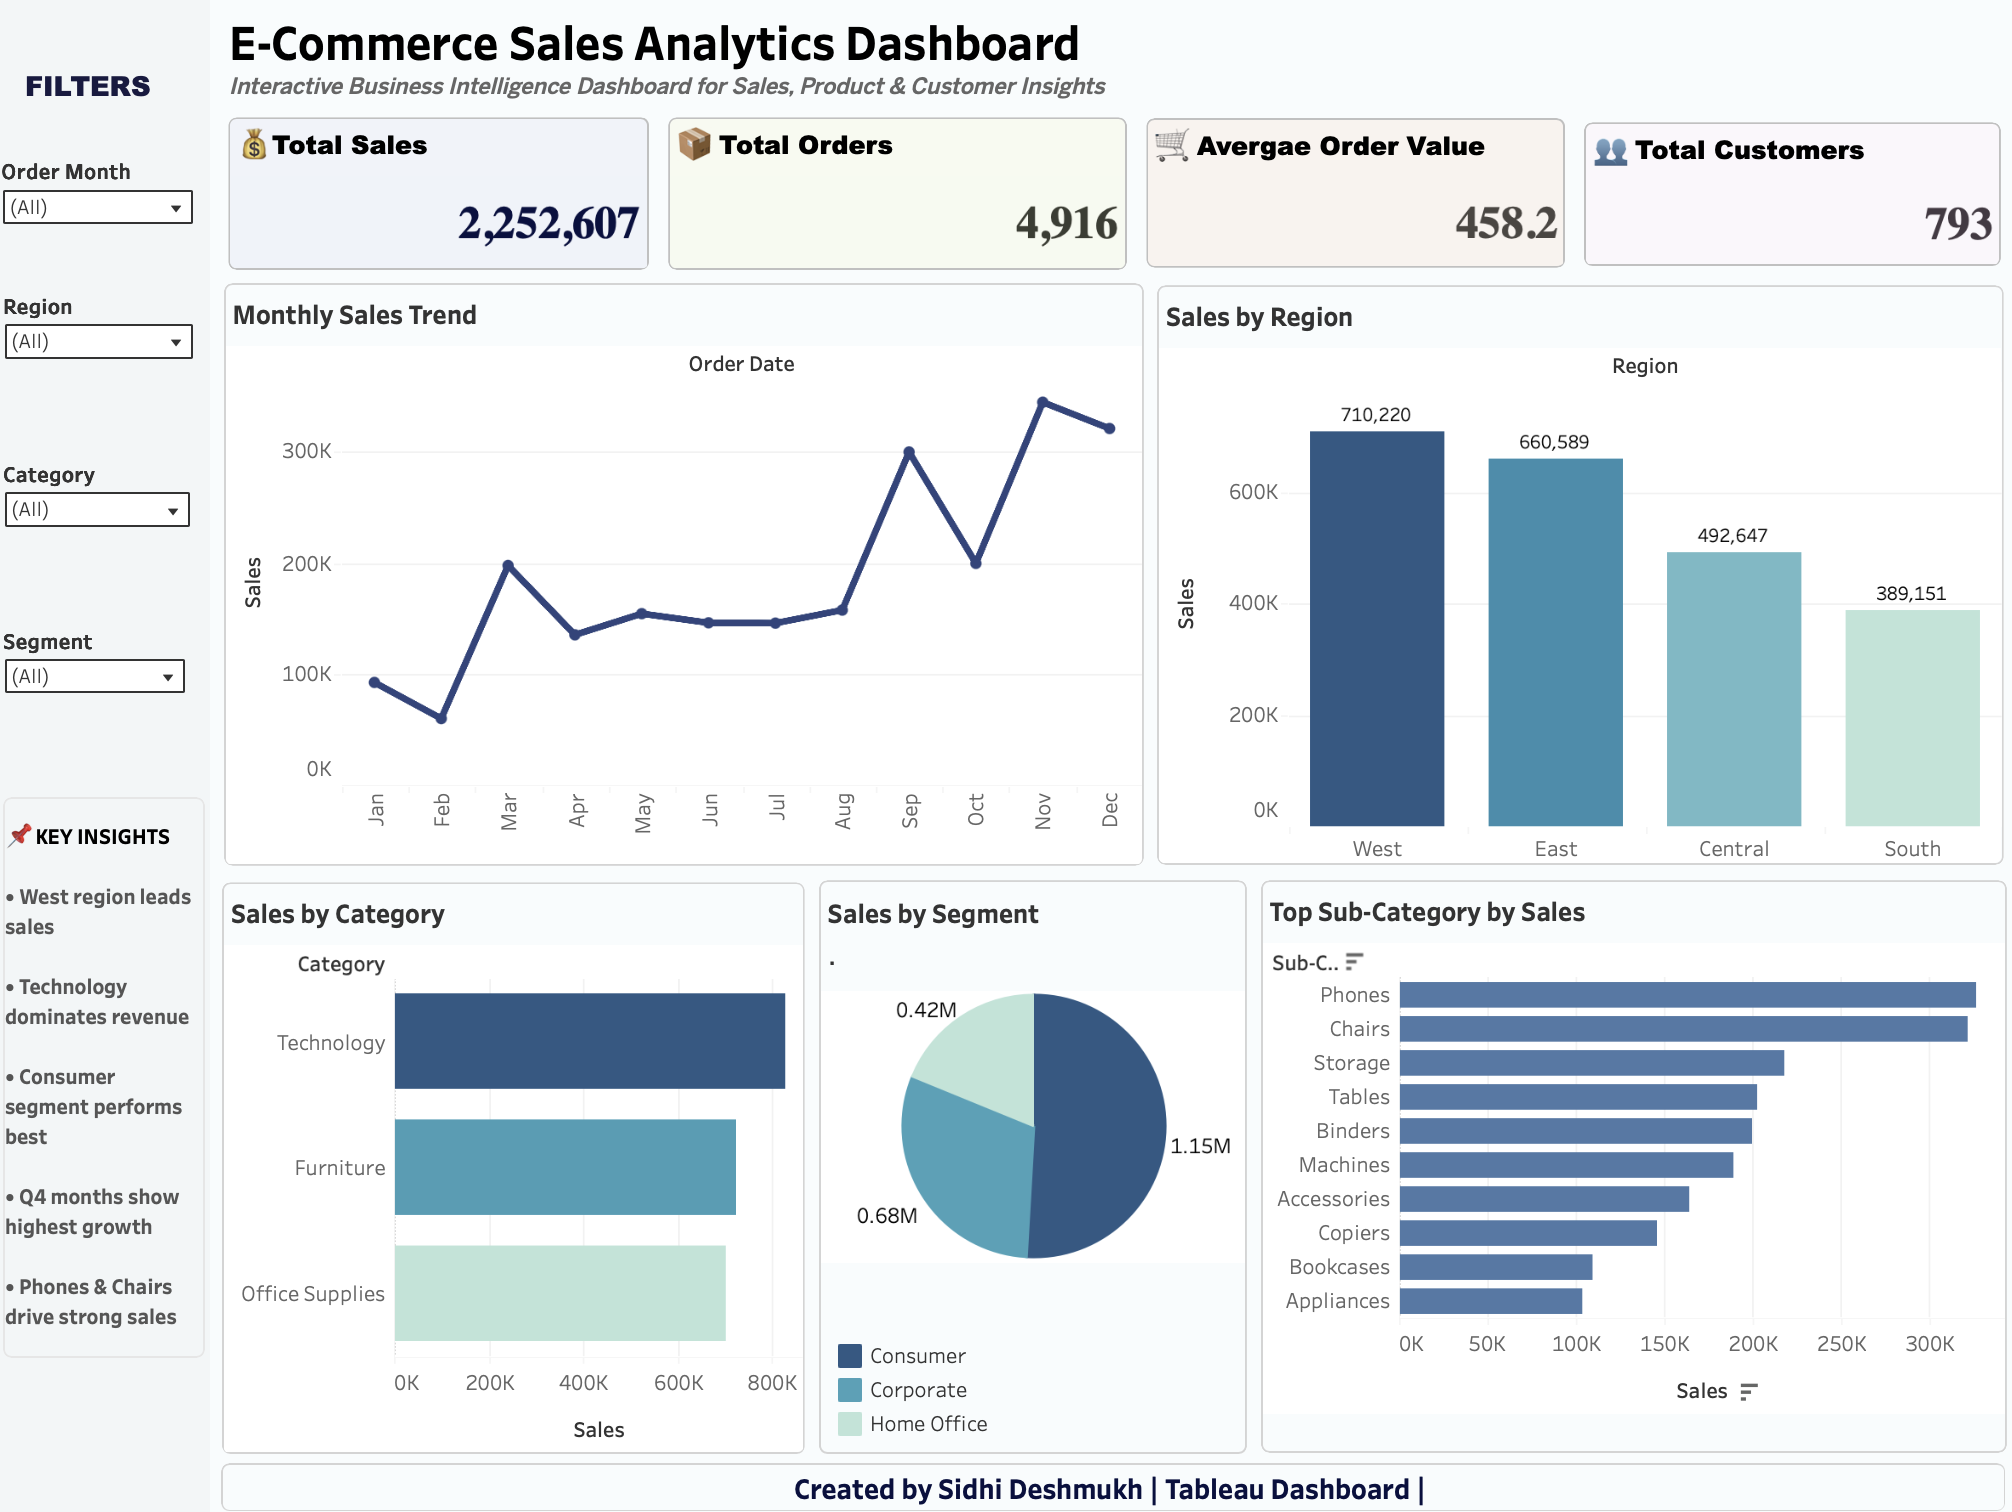

The dashboard page shown, as its layout file describes it:
{"tool":"tableau","page":{"name":"Dashboard 1 (2)","canvas":[1200,900],"ordinal":1},"visuals":[{"type":"text","box":[146,12,1057,60]},{"type":"text","box":[26,34.8,91,48.9]},{"type":"worksheet","title":"Total Sales","mark":"Automatic","box":[145,78,248,90]},{"type":"worksheet","title":"Total Orders","mark":"Automatic","box":[404,78,270,90]},{"type":"worksheet","title":"Average Order Value","mark":"Automatic","box":[685,79,247,88]},{"type":"worksheet","title":"Total Customers","mark":"Automatic","box":[943,81,245,85]},{"type":"filter","title":"Monthly Sales Trend","param":"[federated.12mexzd0oadjrb12fi48v047x5a5].[mn:Order_Date:ok]","box":[12,102,114,64.3]},{"type":"worksheet","title":"Monthly Sales Trend","mark":"Line","rows":["Sales"],"cols":["Order_Date"],"box":[143,176,541,343]},{"type":"worksheet","title":"Sales by Region","mark":"Automatic","rows":["Sales"],"cols":["Region"],"box":[692,177,498,341]},{"type":"filter","title":"Sales by Region","param":"[federated.12mexzd0oadjrb12fi48v047x5a5].[none:Region:nk]","box":[13,180.7,113,114.2]},{"type":"filter","title":"Sales by Category","param":"[federated.12mexzd0oadjrb12fi48v047x5a5].[none:Category:nk]","box":[13,280.4,111,92]},{"type":"filter","title":"Sales by Segment","param":"[federated.12mexzd0oadjrb12fi48v047x5a5].[none:Segment:nk]","box":[13,378,108,94.2]},{"type":"text","box":[13,478,119,330]},{"type":"worksheet","title":"Sales by Segment","mark":"Pie","box":[493,527,252,338]},{"type":"worksheet","title":"Top Sub-Category by Sales","mark":"Automatic","rows":["Sub-Category"],"cols":["Sales"],"box":[753,527,439,337]},{"type":"worksheet","title":"Sales by Category","mark":"Automatic","rows":["Category"],"cols":["Sales"],"box":[142,528,343,337]},{"type":"legend","title":"Sales by Segment","param":"[federated.12mexzd0oadjrb12fi48v047x5a5].[none:Segment:nk]","box":[501,778,113,92]},{"type":"text","box":[141,870,1050,29]}]}

Visuals, with their boxes in screenshot pixels (x1, y1, x2, y2), scaled from the page's 1200x900 canvas onto the 2012x1512 screenshot:
text: 245 20 2011 121
text: 44 58 196 141
"Total Sales" worksheet: 243 131 659 282
"Total Orders" worksheet: 677 131 1130 282
"Average Order Value" worksheet: 1149 133 1563 281
"Total Customers" worksheet: 1581 136 1992 279
"Monthly Sales Trend" filter: 20 171 211 279
"Monthly Sales Trend" worksheet (Line marks): 240 296 1147 872
"Sales by Region" worksheet: 1160 297 1995 870
"Sales by Region" filter: 22 304 211 495
"Sales by Category" filter: 22 471 208 626
"Sales by Segment" filter: 22 635 203 793
text: 22 803 221 1357
"Sales by Segment" worksheet (Pie marks): 827 885 1249 1453
"Top Sub-Category by Sales" worksheet: 1263 885 1999 1452
"Sales by Category" worksheet: 238 887 813 1453
"Sales by Segment" legend: 840 1307 1029 1462
text: 236 1462 1997 1510
